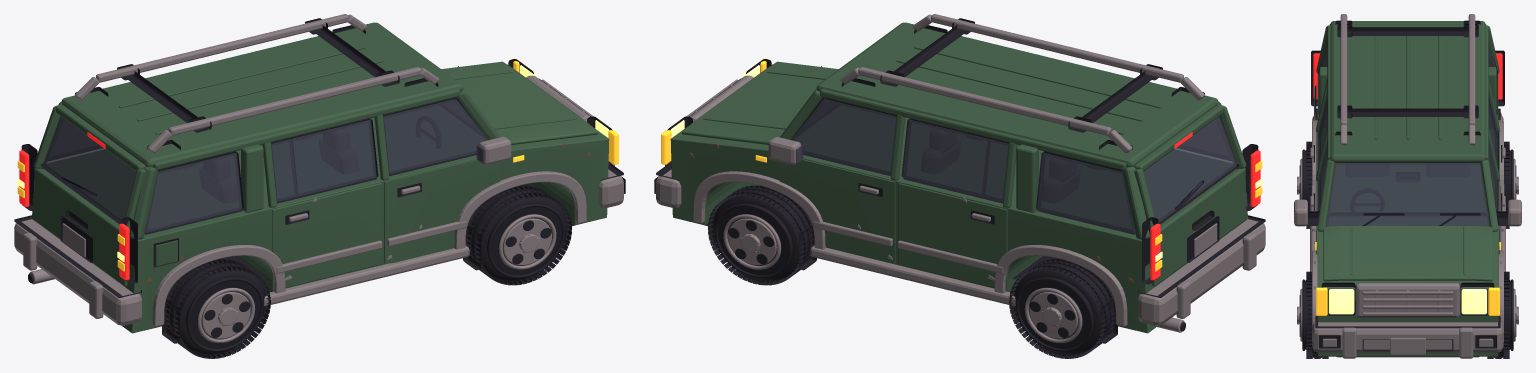
3 views of the same model, side by side, from view 1: azimuth 30°, elevation 25°; view 2: azimuth 150°, elevation 25°; view 3: azimuth 270°, elevation 25° (orthographic). The views are drawn at different scales.
Parts seen in each view (by area): view 1: body_pal_grass, body_pal_sidewalk, doorRearL_pal_grass, body_pal_uiDark, doorL_pal_grass, wheelFL_pal_uiDark, wheelRL_pal_uiDark, doorHatch_pal_grass, doorRearL_pal_backpackTeal, doorL_pal_backpackTeal, body_pal_backpackTeal, doorHatch_pal_backpackTeal (+10 smaller); view 2: body_pal_grass, body_pal_sidewalk, doorRearR_pal_grass, doorR_pal_grass, body_pal_uiDark, wheelFR_pal_uiDark, wheelRR_pal_uiDark, doorHatch_pal_grass, doorRearR_pal_backpackTeal, doorR_pal_backpackTeal, body_pal_backpackTeal, doorHatch_pal_backpackTeal (+10 smaller); view 3: body_pal_grass, body_pal_sidewalk, body_pal_backpackTeal, body_pal_uiDark, lightsFront_emi_windowGlow, body_pal_asphalt, wheelFL_pal_uiDark, wheelFR_pal_uiDark, lightsFront_emi_schoolBusYellow, wheelRL_pal_uiDark, wheelRR_pal_uiDark, doorL_pal_sidewalk (+16 smaller).
Part boxes in pixels (bbox=[...]): body_pal_grass: bbox=[32, 22, 609, 333]; body_pal_sidewalk: bbox=[14, 14, 623, 326]; doorRearL_pal_grass: bbox=[262, 142, 381, 290]; body_pal_uiDark: bbox=[14, 18, 625, 343]; doorL_pal_grass: bbox=[374, 115, 500, 263]; wheelFL_pal_uiDark: bbox=[465, 185, 571, 285]; wheelRL_pal_uiDark: bbox=[164, 259, 270, 358]; doorHatch_pal_grass: bbox=[33, 104, 145, 286]; doorRearL_pal_backpackTeal: bbox=[271, 119, 376, 201]; doorL_pal_backpackTeal: bbox=[383, 98, 488, 174]; body_pal_backpackTeal: bbox=[144, 97, 456, 232]; doorHatch_pal_backpackTeal: bbox=[42, 116, 136, 222]; body_pal_grass: bbox=[670, 22, 1247, 333]; body_pal_sidewalk: bbox=[656, 14, 1265, 332]; doorRearR_pal_grass: bbox=[898, 142, 1017, 290]; doorR_pal_grass: bbox=[779, 115, 905, 263]; body_pal_uiDark: bbox=[654, 18, 1265, 343]; wheelFR_pal_uiDark: bbox=[708, 185, 814, 285]; wheelRR_pal_uiDark: bbox=[1009, 259, 1115, 358]; doorHatch_pal_grass: bbox=[1134, 104, 1246, 286]; doorRearR_pal_backpackTeal: bbox=[903, 119, 1008, 201]; doorR_pal_backpackTeal: bbox=[791, 98, 896, 174]; body_pal_backpackTeal: bbox=[823, 97, 1135, 232]; doorHatch_pal_backpackTeal: bbox=[1143, 116, 1237, 222]; body_pal_grass: bbox=[1314, 21, 1499, 356]; body_pal_sidewalk: bbox=[1310, 14, 1505, 358]; body_pal_backpackTeal: bbox=[1319, 41, 1496, 226]; body_pal_uiDark: bbox=[1305, 20, 1510, 357]; lightsFront_emi_windowGlow: bbox=[1329, 289, 1486, 314]; body_pal_asphalt: bbox=[1346, 165, 1469, 176]; wheelFL_pal_uiDark: bbox=[1299, 271, 1328, 358]; wheelFR_pal_uiDark: bbox=[1487, 271, 1516, 358]; lightsFront_emi_schoolBusYellow: bbox=[1315, 242, 1500, 315]; wheelRL_pal_uiDark: bbox=[1299, 141, 1311, 228]; wheelRR_pal_uiDark: bbox=[1504, 141, 1516, 228]; doorL_pal_sidewalk: bbox=[1294, 196, 1315, 269].
Bounding box in the file's own units: 4.42 × 1.8 × 1.9.
